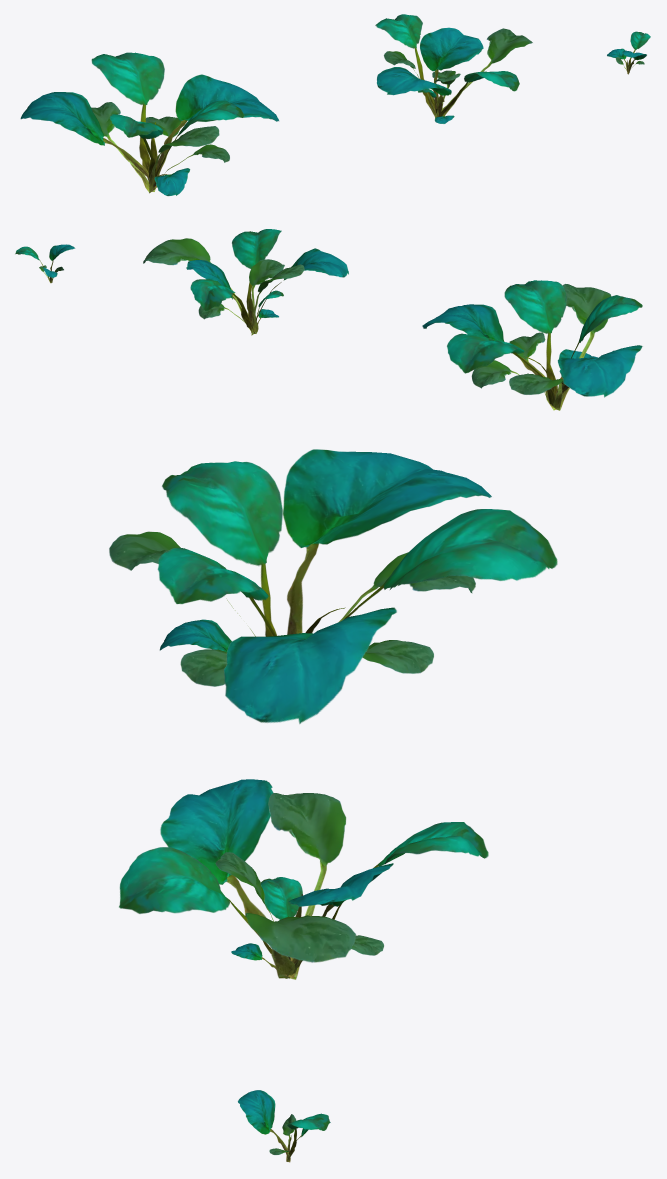
File: anubias.glb
3 renders of one model, top to bottom at view 1: azimuth 30°, elevation 25°; view 2: azimuth 150°, elevation 25°; view 3: azimuth 270°, elevation 25°, orthographic. The views are drawn at different scales.
Visible parts, largest first — view 1: plant_0, plant_1, plant_2; view 2: plant_0, plant_1, plant_2; view 3: plant_0, plant_1, plant_2.
Part boxes in pixels (x1,y1,x2,y2): plant_0: (20,52,278,196); plant_1: (375,14,532,123); plant_2: (607,31,650,74); plant_0: (422,280,642,410); plant_1: (143,229,348,335); plant_2: (15,244,75,283); plant_0: (109,449,557,723); plant_1: (119,779,488,979); plant_2: (238,1090,330,1162).
Size of the model in its own units: 6.34 by 1 by 2.12.
3 materials, 3 textured.
